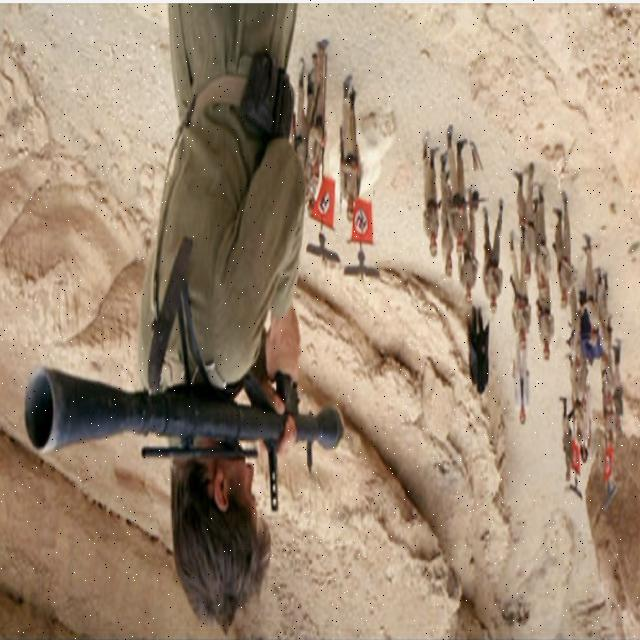bazooka: (17, 363, 349, 462)
